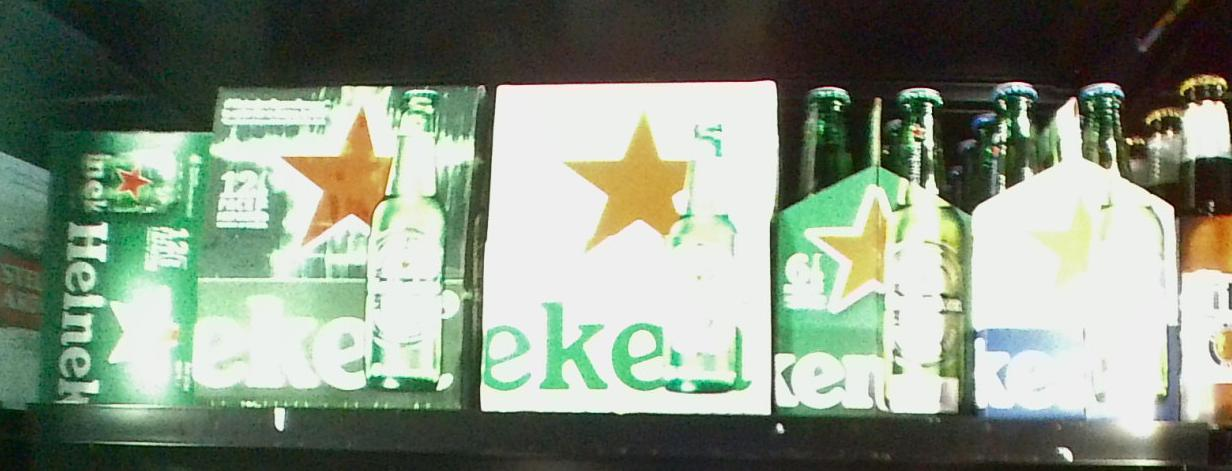bottle: (486, 82, 777, 413), (211, 85, 477, 411), (980, 82, 1176, 420), (779, 85, 976, 414), (46, 125, 201, 408)
